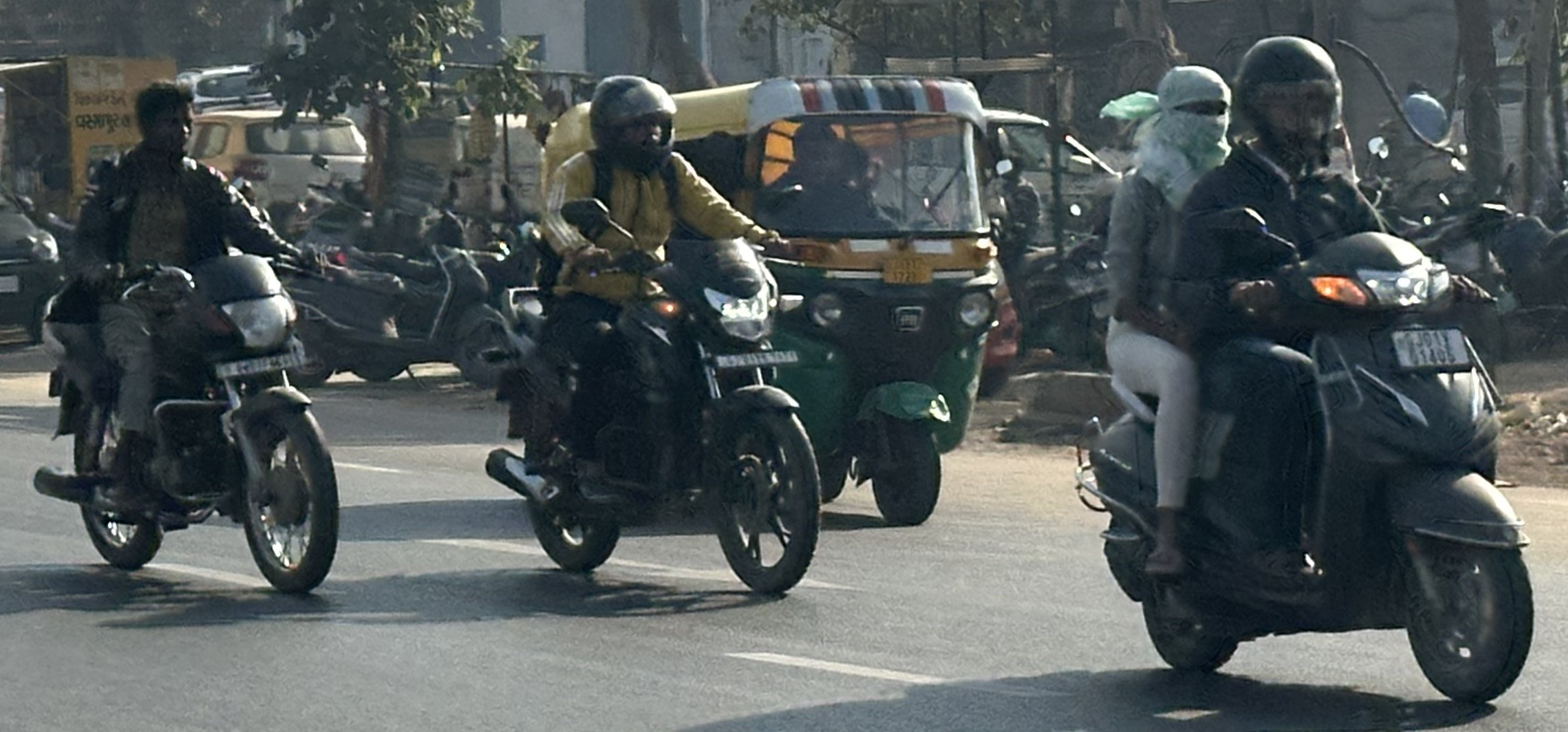BikeWithRider: (1061, 24, 1548, 714), (473, 65, 839, 604), (22, 69, 359, 602)
Helmet: (1224, 26, 1356, 164), (577, 65, 690, 177)
NoHelmet: (1143, 57, 1244, 165), (118, 72, 211, 165)
